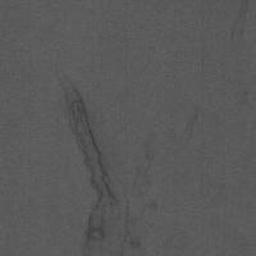Water spot: (52, 67, 201, 256), (228, 0, 251, 58), (35, 251, 54, 256)
